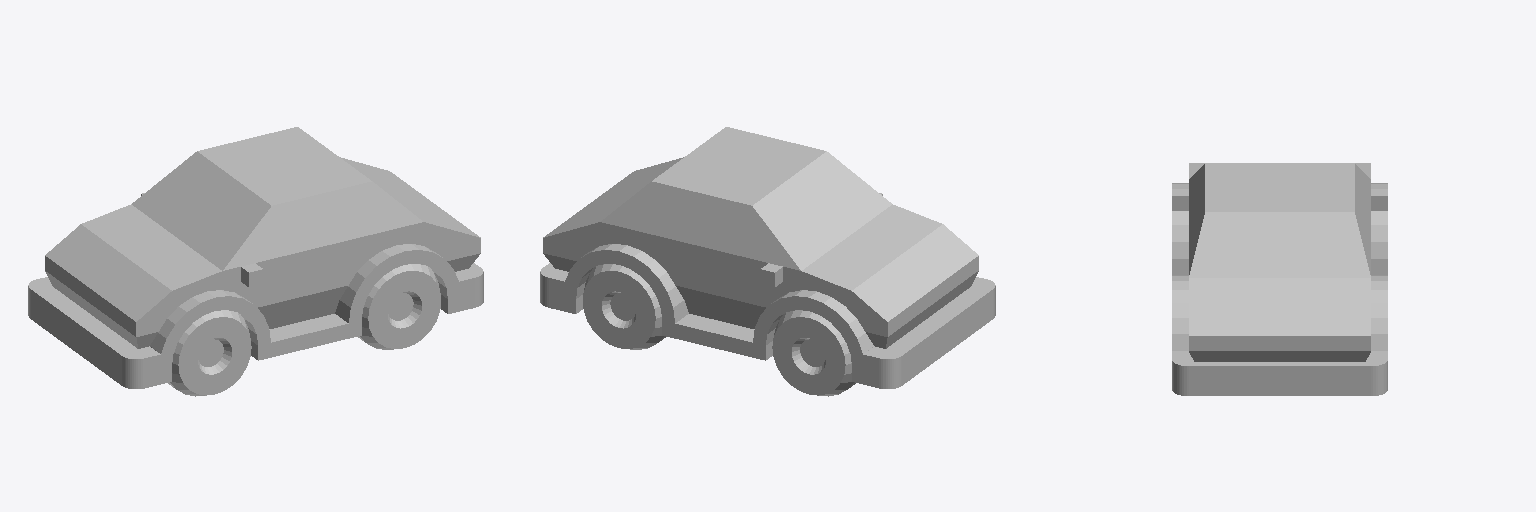
File: sedanSports.obj
3 renders of one model, left to right at view 1: azimuth 30°, elevation 25°; view 2: azimuth 150°, elevation 25°; view 3: azimuth 270°, elevation 25°, orthographic.
Parts seen in each view (by area): view 1: body, wheel_frontLeft, wheel_backLeft; view 2: body, wheel_frontRight, wheel_backRight; view 3: body.
Part boxes in pixels (x1,y1,x2,y2): body: (28, 127, 483, 388); wheel_frontLeft: (168, 310, 251, 396); wheel_backLeft: (358, 264, 440, 349); body: (540, 127, 995, 388); wheel_frontRight: (772, 310, 855, 396); wheel_backRight: (583, 264, 665, 349); body: (1172, 163, 1387, 395).
Bounding box in the file's own units: 1.88 × 0.825 × 0.975.